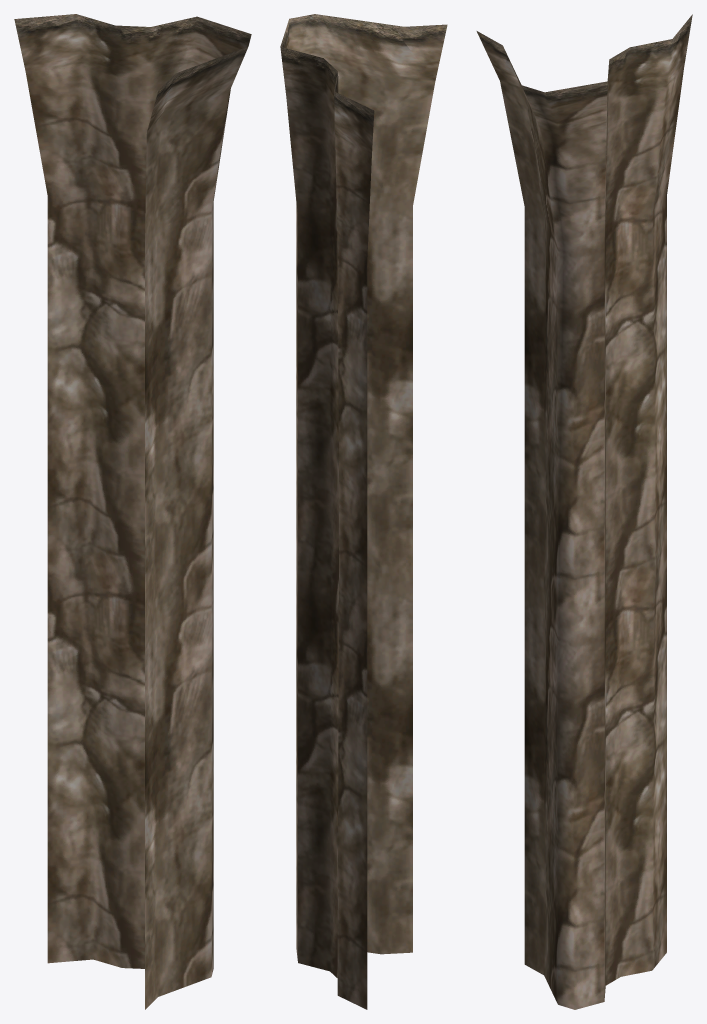
The model's file is OVERHILL_A_01_LINE55.fbx.
The picture shows the model from 3 angles, left to right: view 1: azimuth 30°, elevation 25°; view 2: azimuth 150°, elevation 25°; view 3: azimuth 270°, elevation 25°; orthographic projection. The views are drawn at different scales.
Parts seen in each view (by area): view 1: OVERHILL_A_01_LINE55; view 2: OVERHILL_A_01_LINE55; view 3: OVERHILL_A_01_LINE55.
Part boxes in pixels (bbox=[...]): OVERHILL_A_01_LINE55: bbox=[14, 14, 251, 1009]; OVERHILL_A_01_LINE55: bbox=[280, 14, 447, 1009]; OVERHILL_A_01_LINE55: bbox=[476, 14, 692, 1009].
Size of the model in its own units: 22631 by 125057 by 26433.
2 materials, 2 textured.
